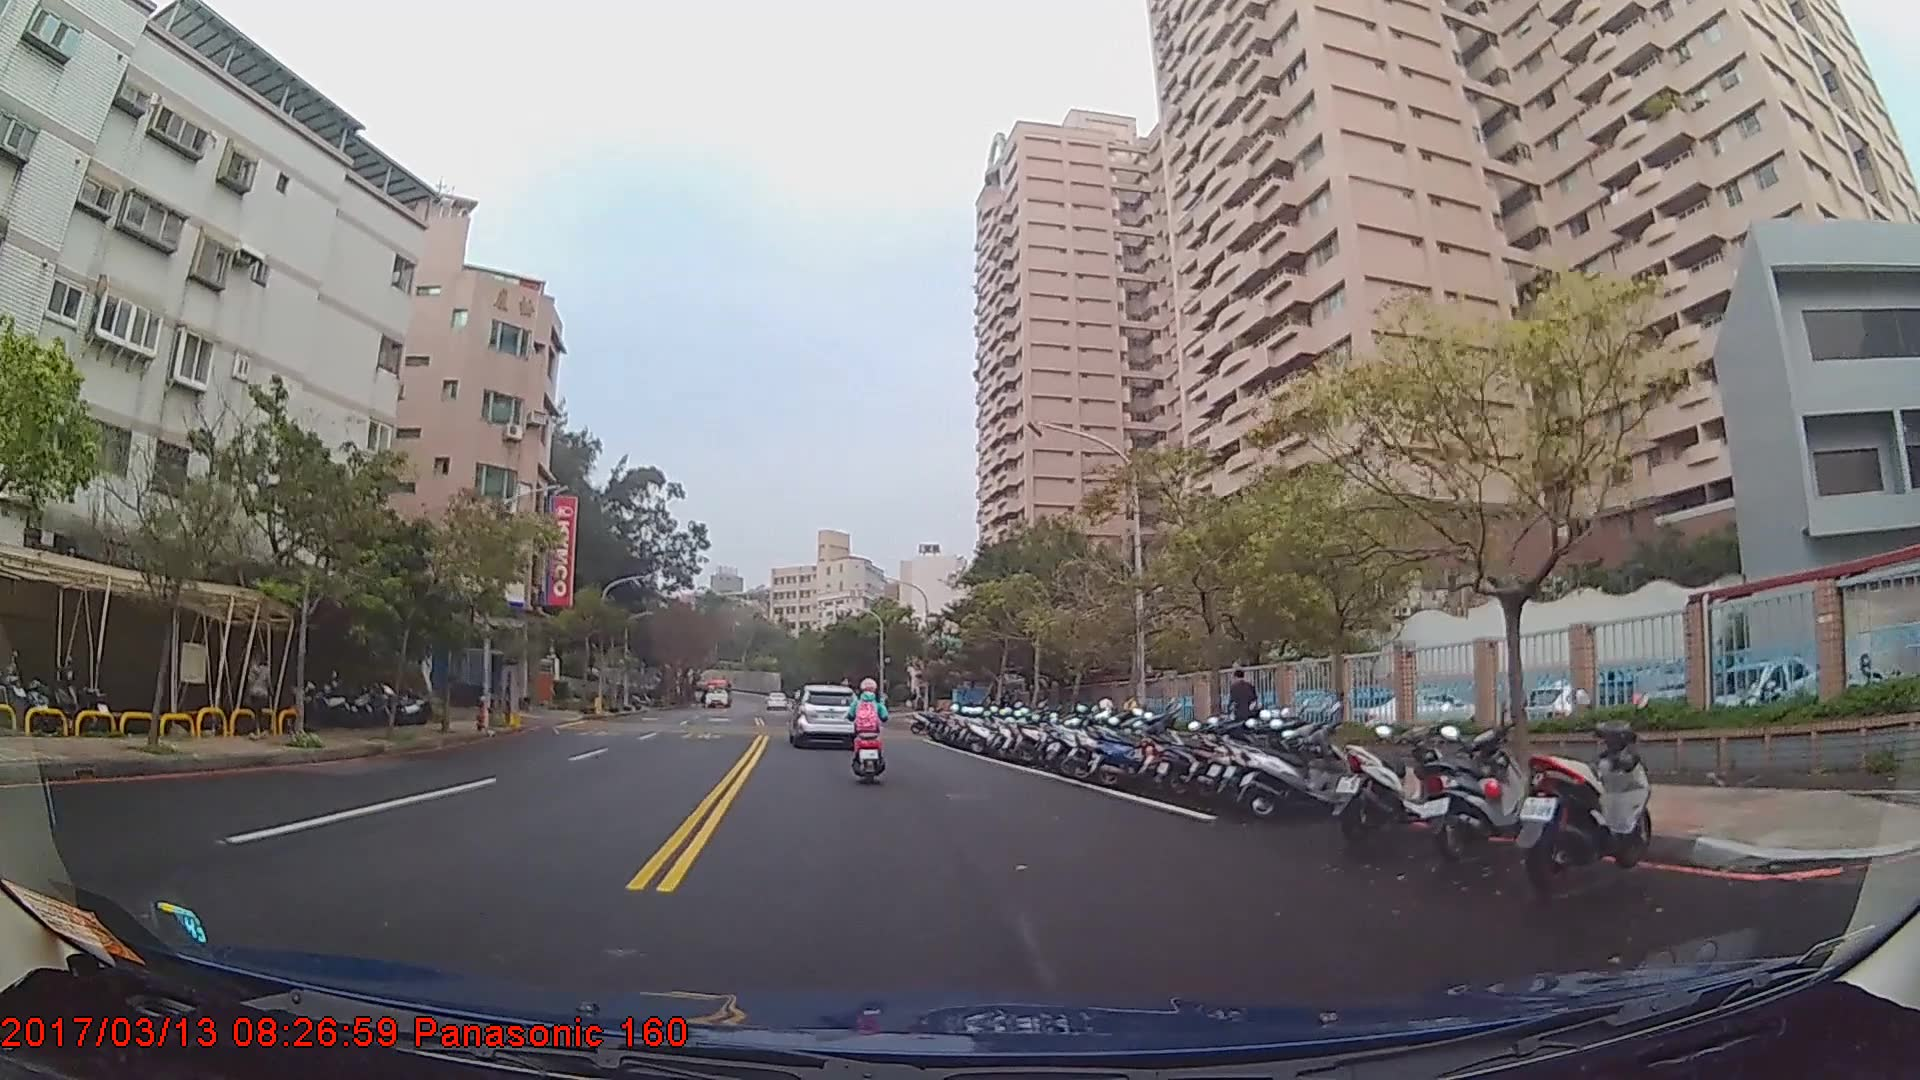pedestrian: (1227, 666, 1261, 752), (247, 650, 273, 738)
rider: (849, 677, 889, 772)
vehicle: (789, 681, 858, 749), (700, 678, 734, 709)
